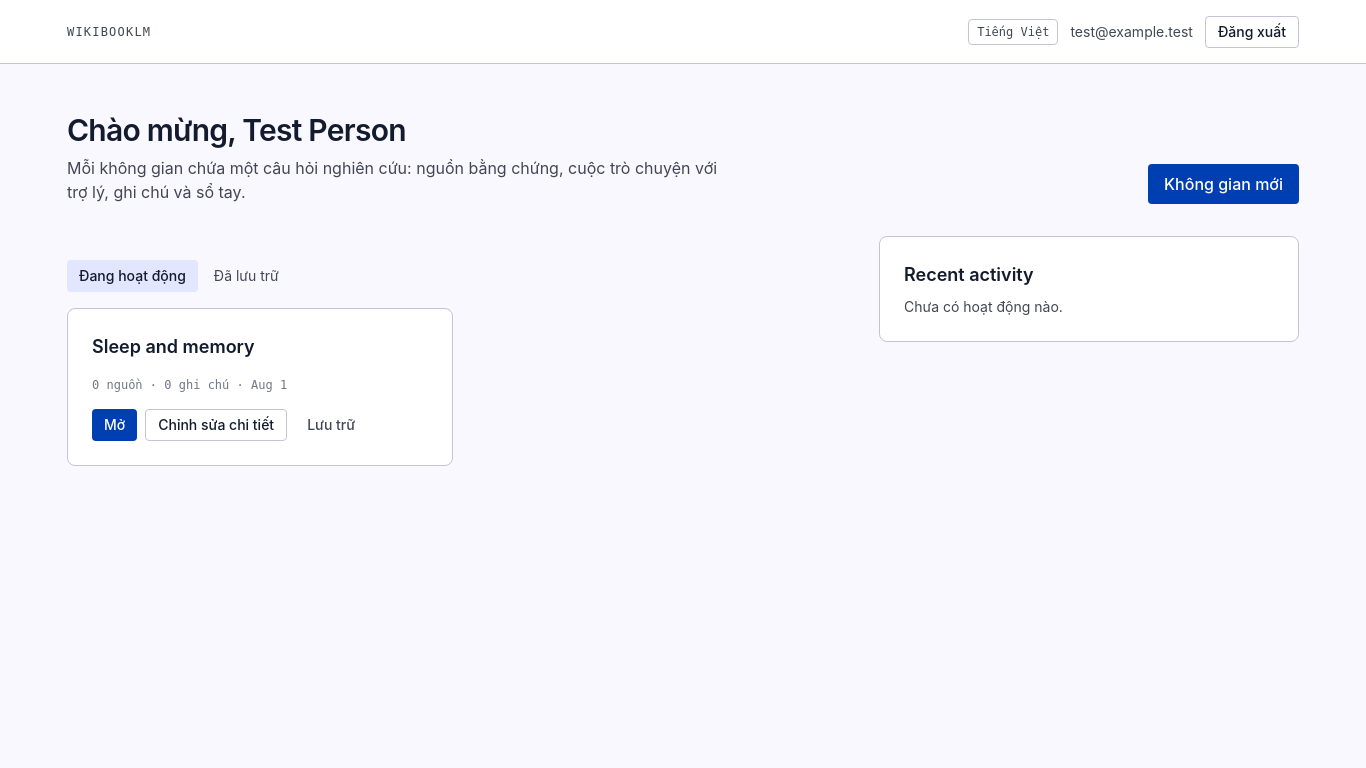
Test: HomePage › closes the create dialog on Escape and restores focus
Click the button "Không gian mới": (1224,184) left=1148, top=164, right=1299, bottom=204
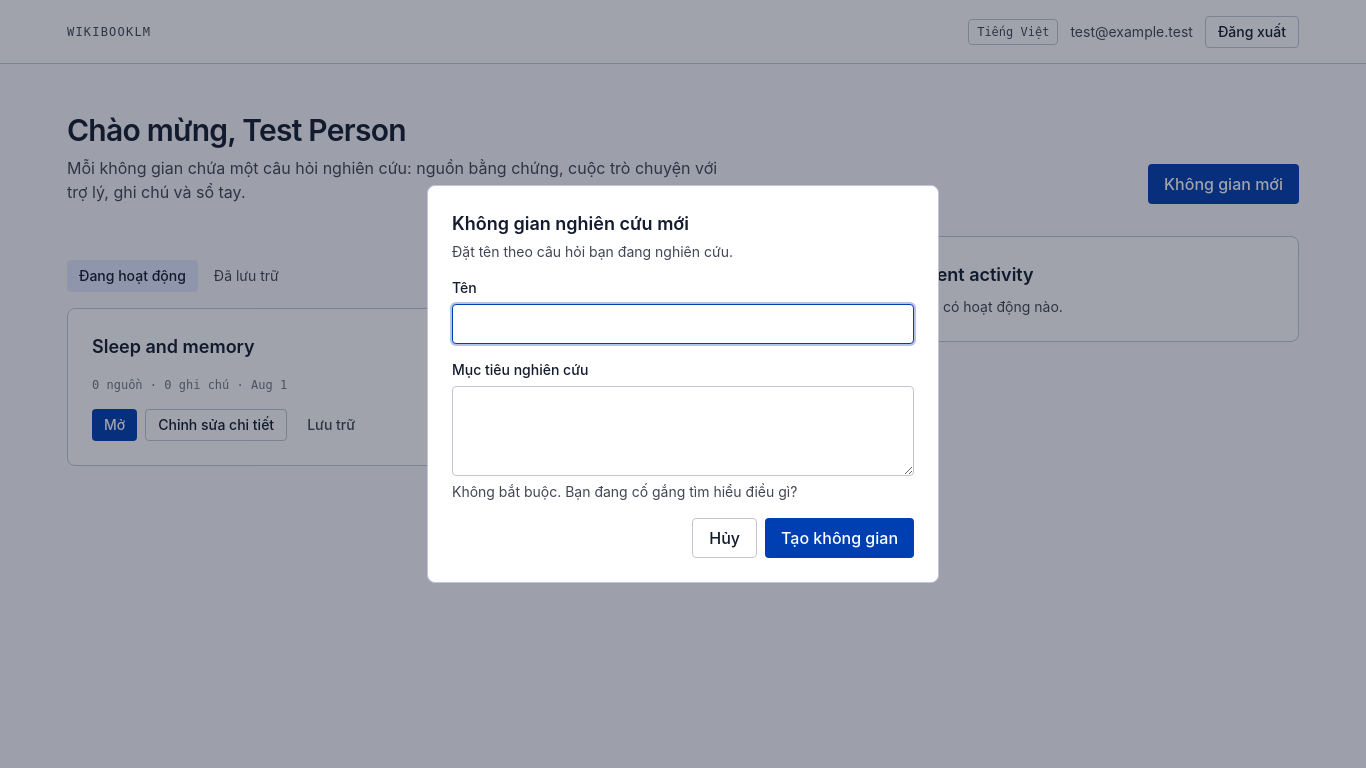
Now the dialog is shown, box left=427, top=185, right=939, bottom=583
Press Escape
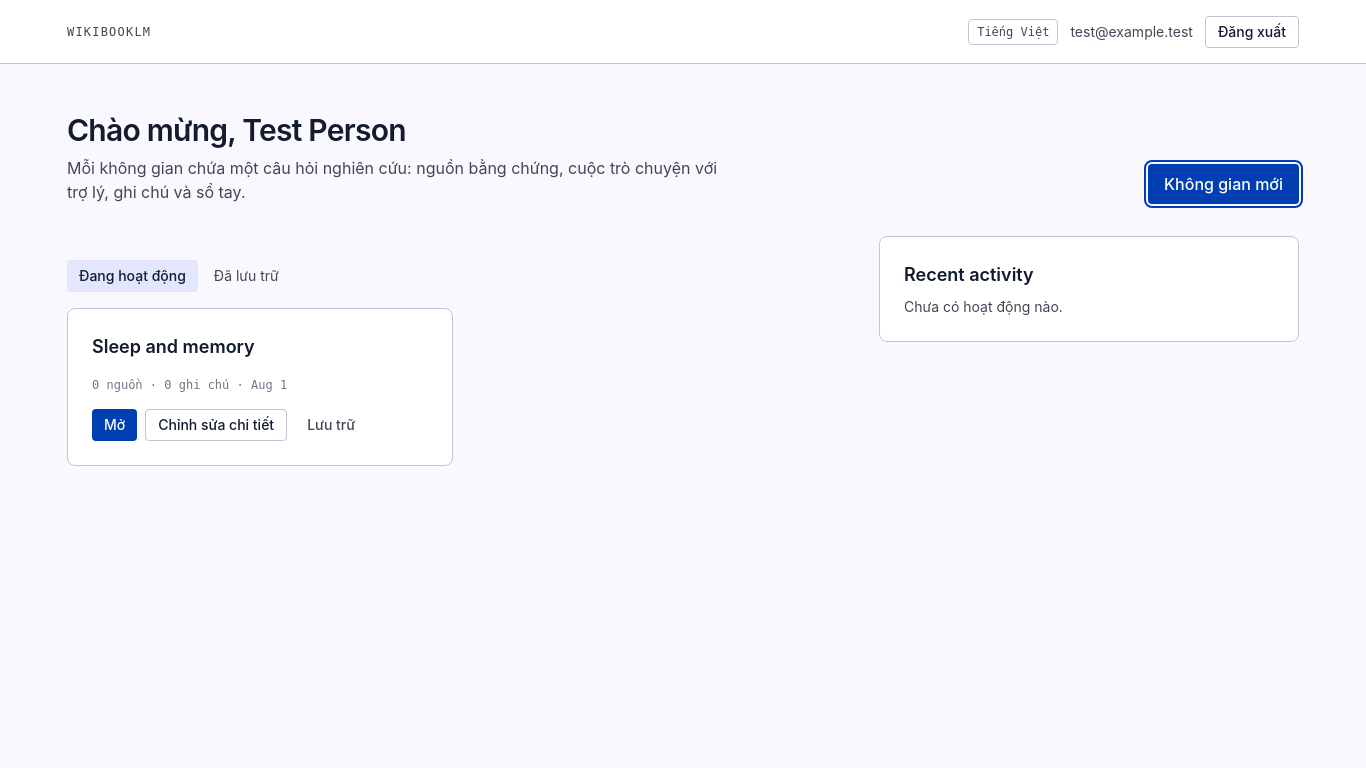
Now the dialog is gone
